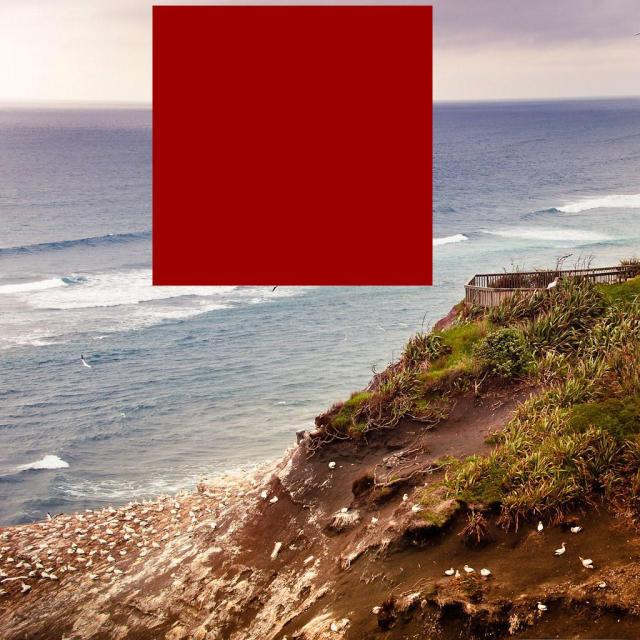RedSquare: (147, 5, 442, 290)
